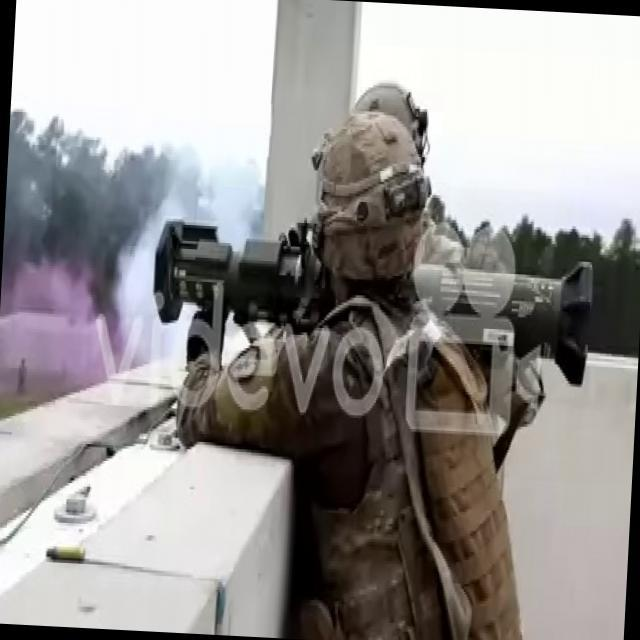rocket: (152, 214, 594, 389)
